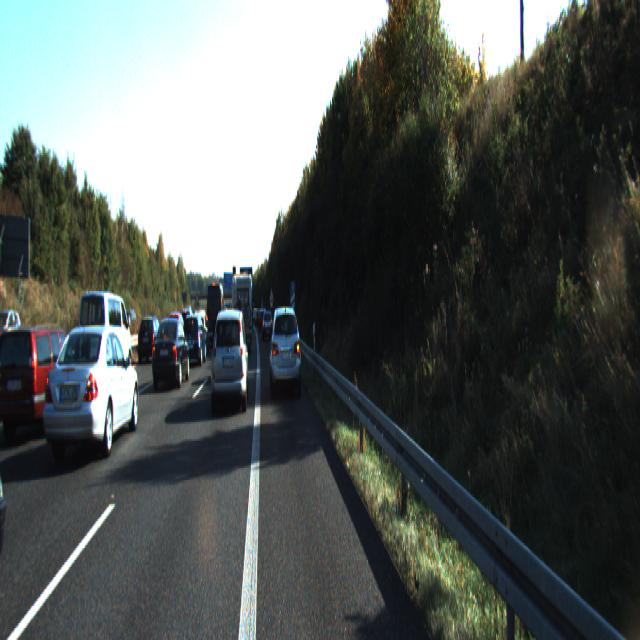Car: (41, 322, 140, 470), (0, 322, 88, 444), (76, 286, 133, 391), (209, 306, 249, 414), (270, 303, 302, 398), (151, 315, 190, 390), (232, 271, 252, 350), (180, 313, 207, 368), (137, 317, 165, 366), (208, 282, 226, 348), (262, 312, 273, 342)
